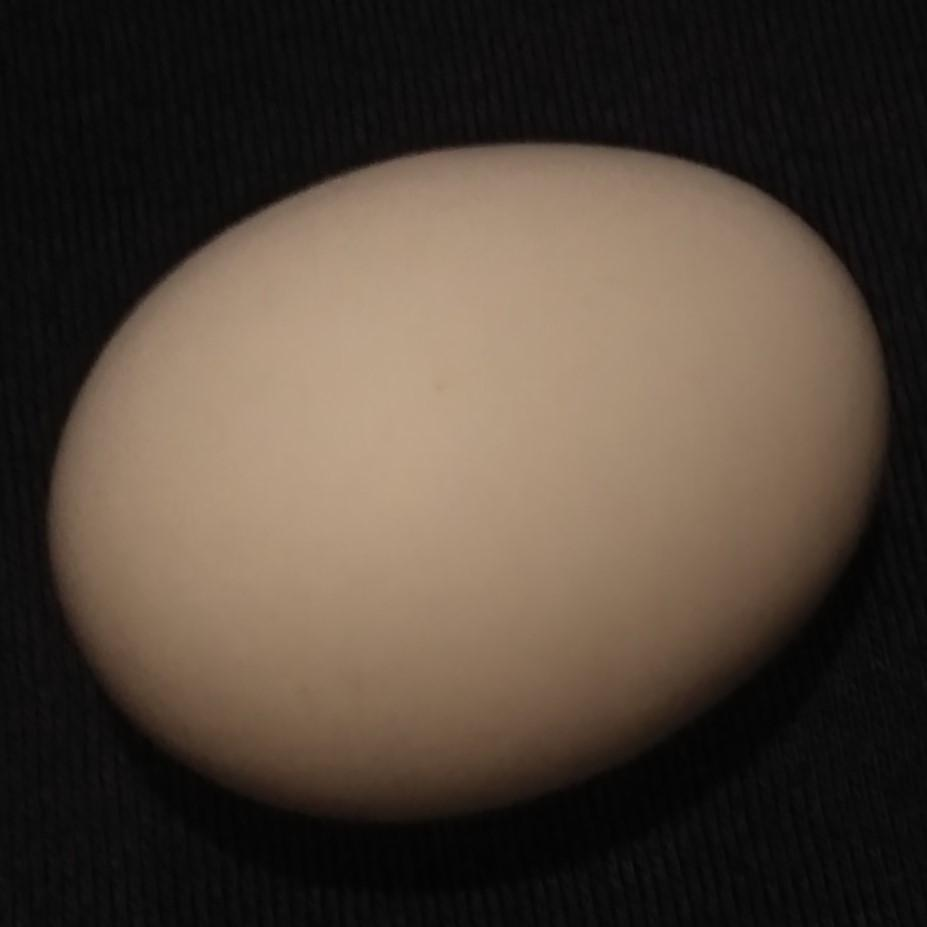egg: (54, 144, 887, 838)
